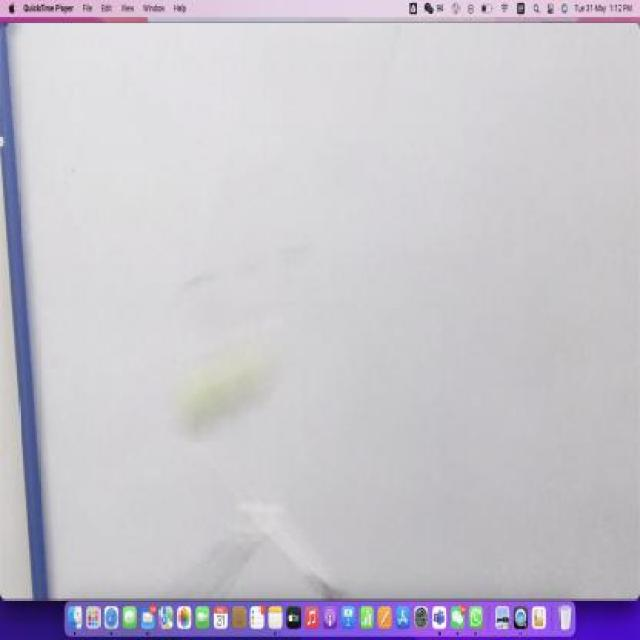baseball: (175, 353, 258, 438)
